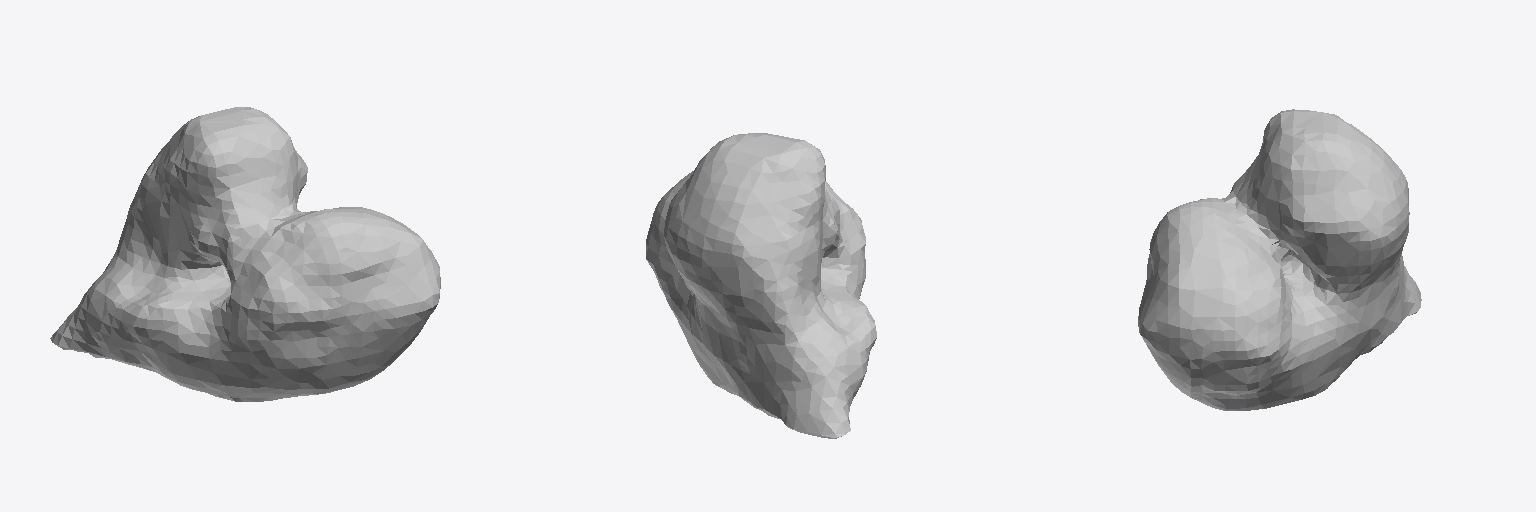
The picture shows the model from 3 angles: view 1: azimuth 30°, elevation 25°; view 2: azimuth 150°, elevation 25°; view 3: azimuth 270°, elevation 25°; orthographic projection.
Parts seen in each view (by area): view 1: Polygonal_Model_3_Triangles_0; view 2: Polygonal_Model_3_Triangles_0; view 3: Polygonal_Model_3_Triangles_0.
Part boxes in pixels (x1,y1,x2,y2): Polygonal_Model_3_Triangles_0: (50,107,440,401); Polygonal_Model_3_Triangles_0: (646,133,876,438); Polygonal_Model_3_Triangles_0: (1138,109,1421,410).
Bounding box in the file's own units: 1.14 × 0.9833 × 0.9897.